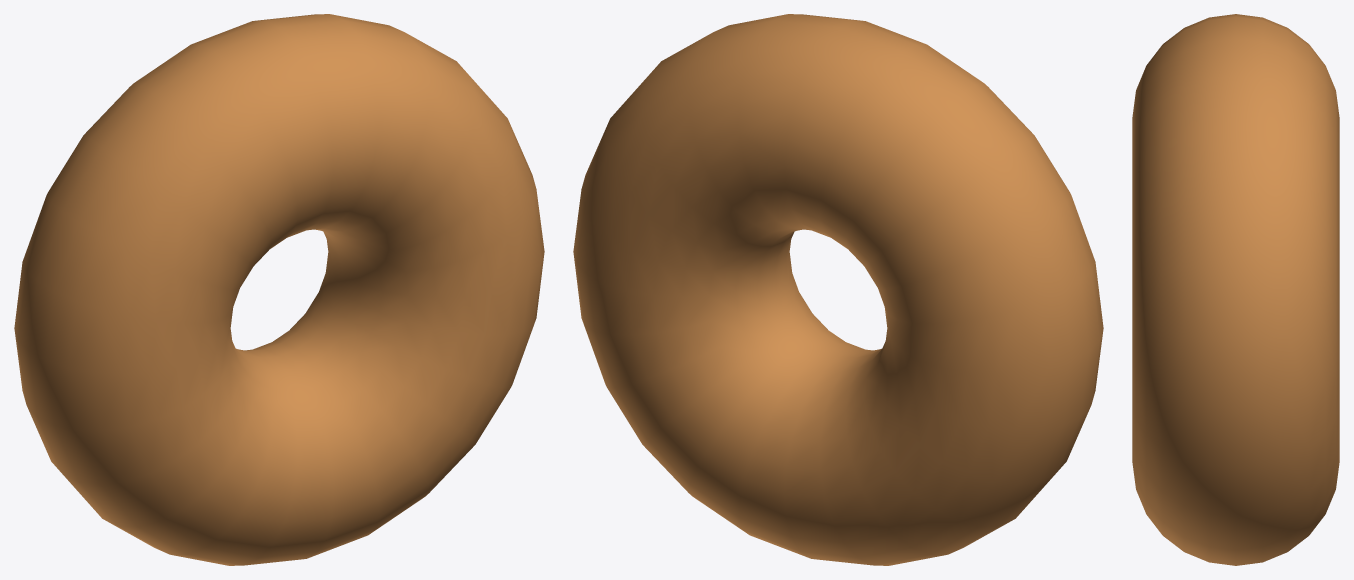
3 renders of one model, left to right at view 1: azimuth 30°, elevation 25°; view 2: azimuth 150°, elevation 25°; view 3: azimuth 270°, elevation 25°, orthographic. The views are drawn at different scales.
Parts seen in each view (by area): view 1: giant glazed donut; view 2: giant glazed donut; view 3: giant glazed donut.
Boxes of the visible parts, <box> form: giant glazed donut: <box>14,14,544,565</box>; giant glazed donut: <box>573,14,1103,565</box>; giant glazed donut: <box>1132,14,1339,565</box>.
Size of the model in its own units: 230 by 230 by 85.92.
